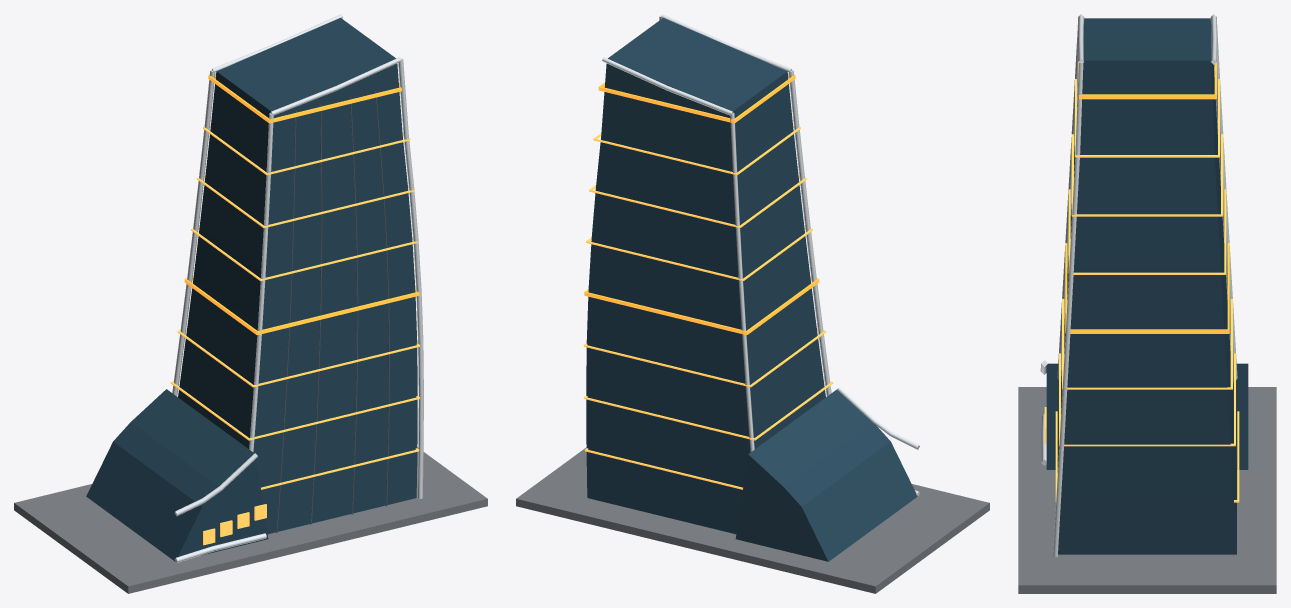
File: Model_ Stage 05 .glb
3 views of the same model, side by side, from view 1: azimuth 30°, elevation 25°; view 2: azimuth 150°, elevation 25°; view 3: azimuth 270°, elevation 25° (orthographic). The views are drawn at different scales.
Parts seen in each view (by area): view 1: SailTowerGlassShell.001, SweepingPodiumGlass.002, SailFoundation.004, SignatureWhiteTowerRibbon.001, SailWarmFloorBands.001, FacadeMullions.001, SailSkyLobbyBands.001, PodiumWhiteRibbon.002, PodiumWindows.002; view 2: SailTowerGlassShell.001, SweepingPodiumGlass.002, SailFoundation.004, SignatureWhiteTowerRibbon.001, SailWarmFloorBands.001, SailSkyLobbyBands.001; view 3: SailTowerGlassShell.001, SailFoundation.004, SignatureWhiteTowerRibbon.001, SailWarmFloorBands.001, SweepingPodiumGlass.002, SailSkyLobbyBands.001, FacadeMullions.001.
Boxes of the visible parts, x1=… form: SailTowerGlassShell.001: x1=178, y1=18, x2=417, y2=534; SweepingPodiumGlass.002: x1=86, y1=389, x2=268, y2=561; SailFoundation.004: x1=14, y1=447, x2=487, y2=593; SignatureWhiteTowerRibbon.001: x1=172, y1=14, x2=423, y2=499; SailWarmFloorBands.001: x1=170, y1=125, x2=419, y2=489; FacadeMullions.001: x1=276, y1=91, x2=389, y2=532; SailSkyLobbyBands.001: x1=184, y1=73, x2=419, y2=335; PodiumWhiteRibbon.002: x1=174, y1=453, x2=266, y2=562; PodiumWindows.002: x1=203, y1=504, x2=266, y2=545; SailTowerGlassShell.001: x1=586, y1=18, x2=825, y2=534; SweepingPodiumGlass.002: x1=735, y1=389, x2=917, y2=561; SailFoundation.004: x1=516, y1=447, x2=989, y2=593; SignatureWhiteTowerRibbon.001: x1=602, y1=14, x2=831, y2=451; SailWarmFloorBands.001: x1=583, y1=125, x2=833, y2=489; SailSkyLobbyBands.001: x1=584, y1=73, x2=819, y2=335; SailTowerGlassShell.001: x1=1058, y1=18, x2=1236, y2=554; SailFoundation.004: x1=1018, y1=387, x2=1276, y2=593; SignatureWhiteTowerRibbon.001: x1=1053, y1=14, x2=1237, y2=557; SailWarmFloorBands.001: x1=1055, y1=79, x2=1239, y2=502; SweepingPodiumGlass.002: x1=1046, y1=363, x2=1248, y2=469; SailSkyLobbyBands.001: x1=1065, y1=62, x2=1229, y2=333; FacadeMullions.001: x1=1057, y1=105, x2=1077, y2=472.
Bounding box in the file's own units: 20 × 23.58 × 11.
